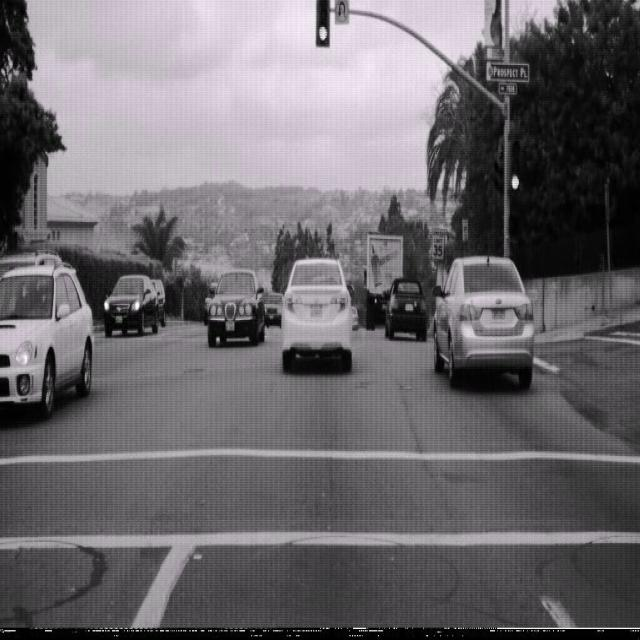speedLimit35: (431, 226, 445, 261)
